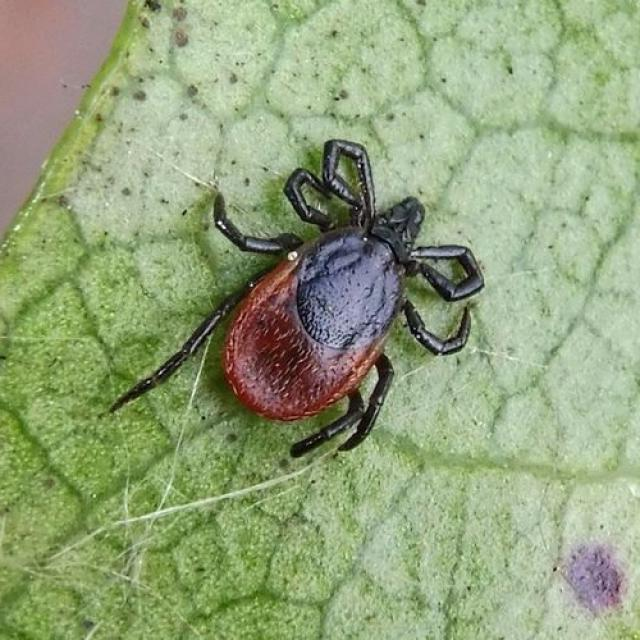Ixodes Ricinus-F: (106, 140, 485, 460)
